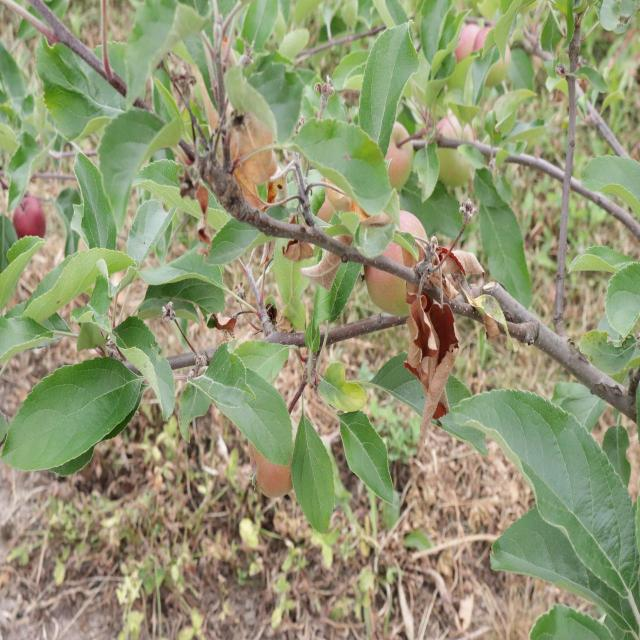-FireBlight-: (401, 231, 486, 471), (206, 80, 286, 209)
